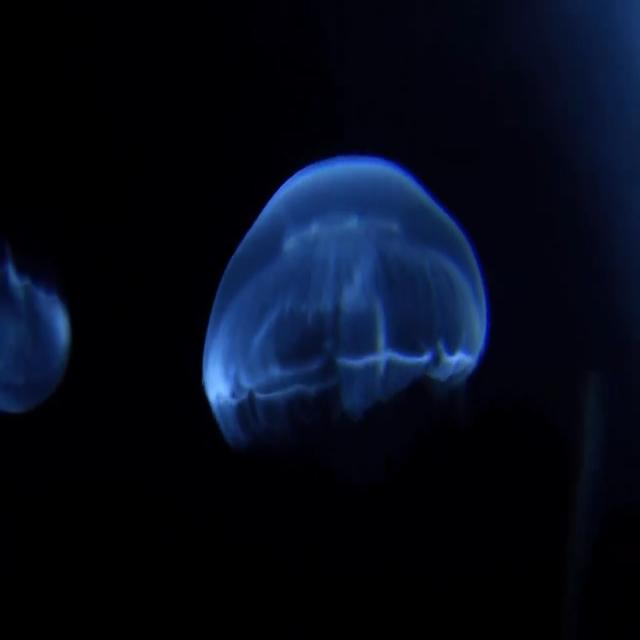Moon-jellyfish: (200, 156, 492, 469)
